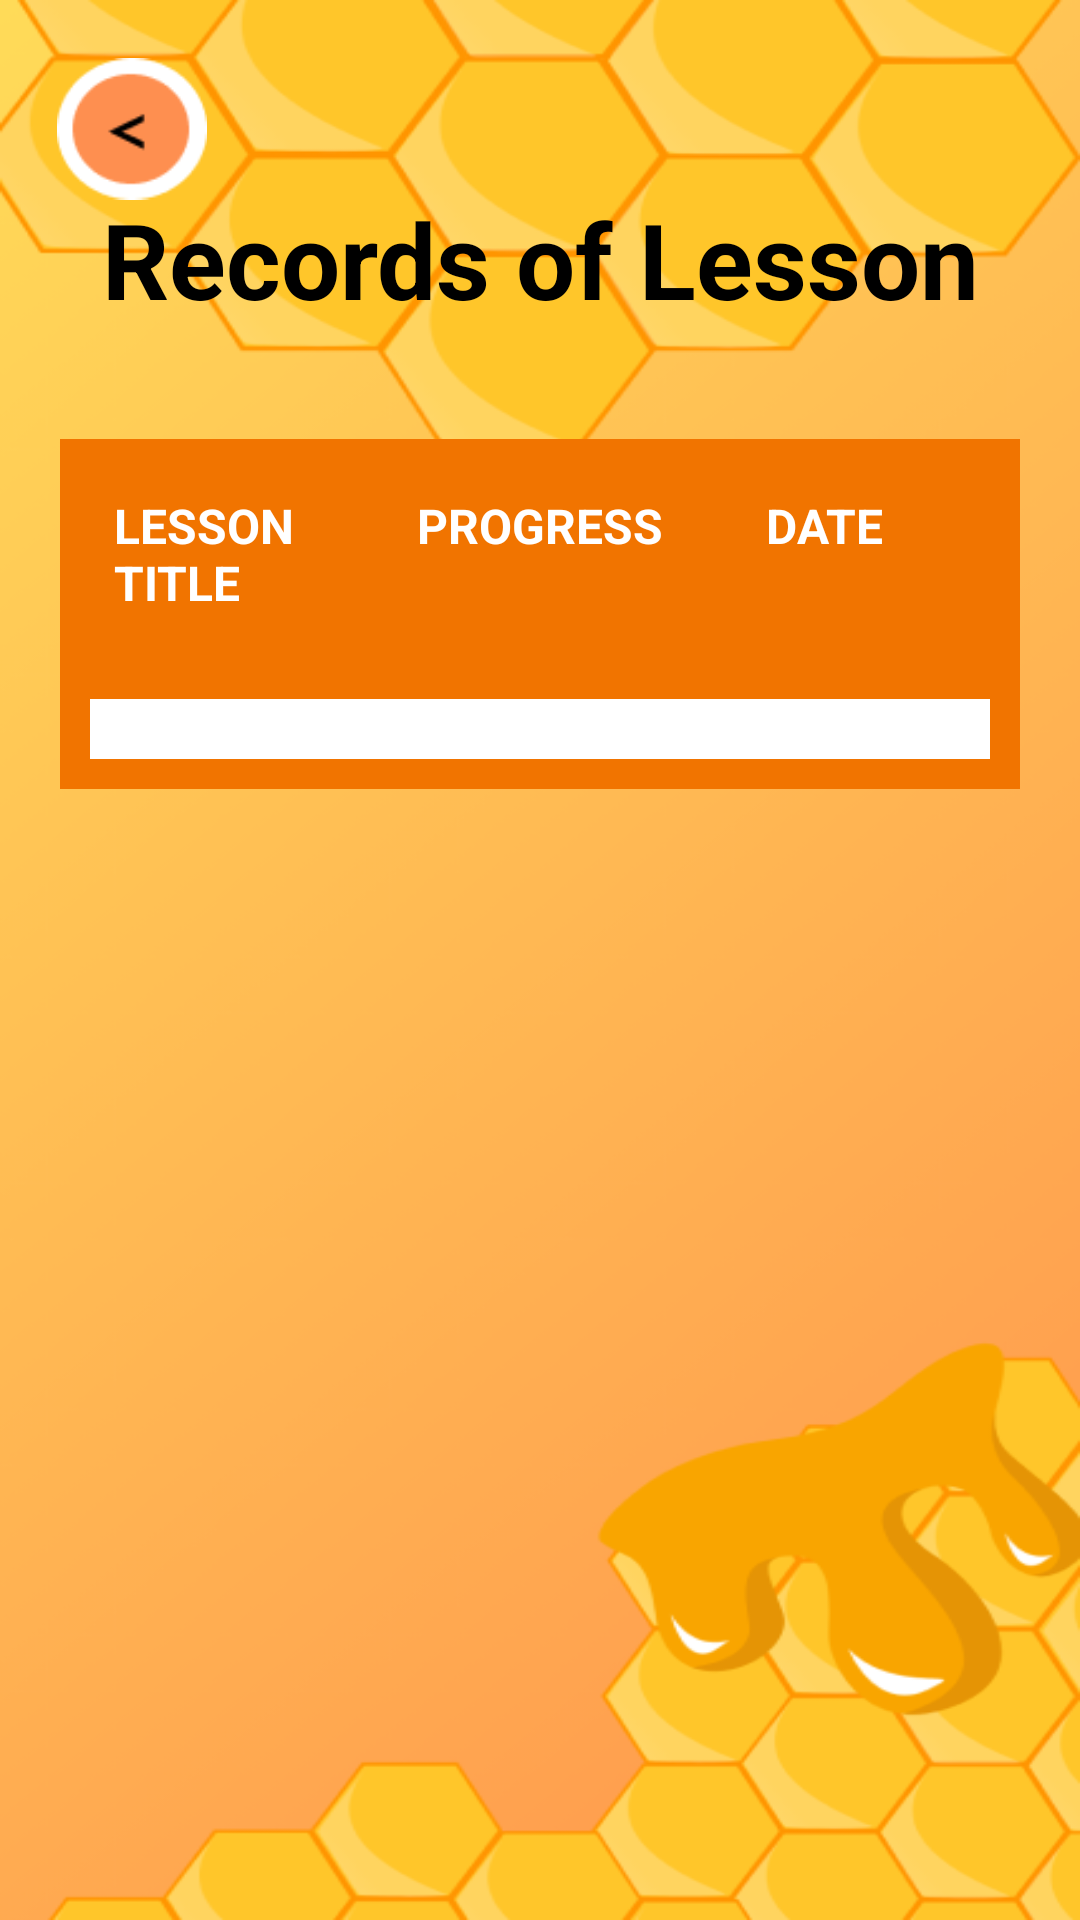

Named icons in this screenshot (1080×1920) and their centers, (x,y):
Back: (132,129)
